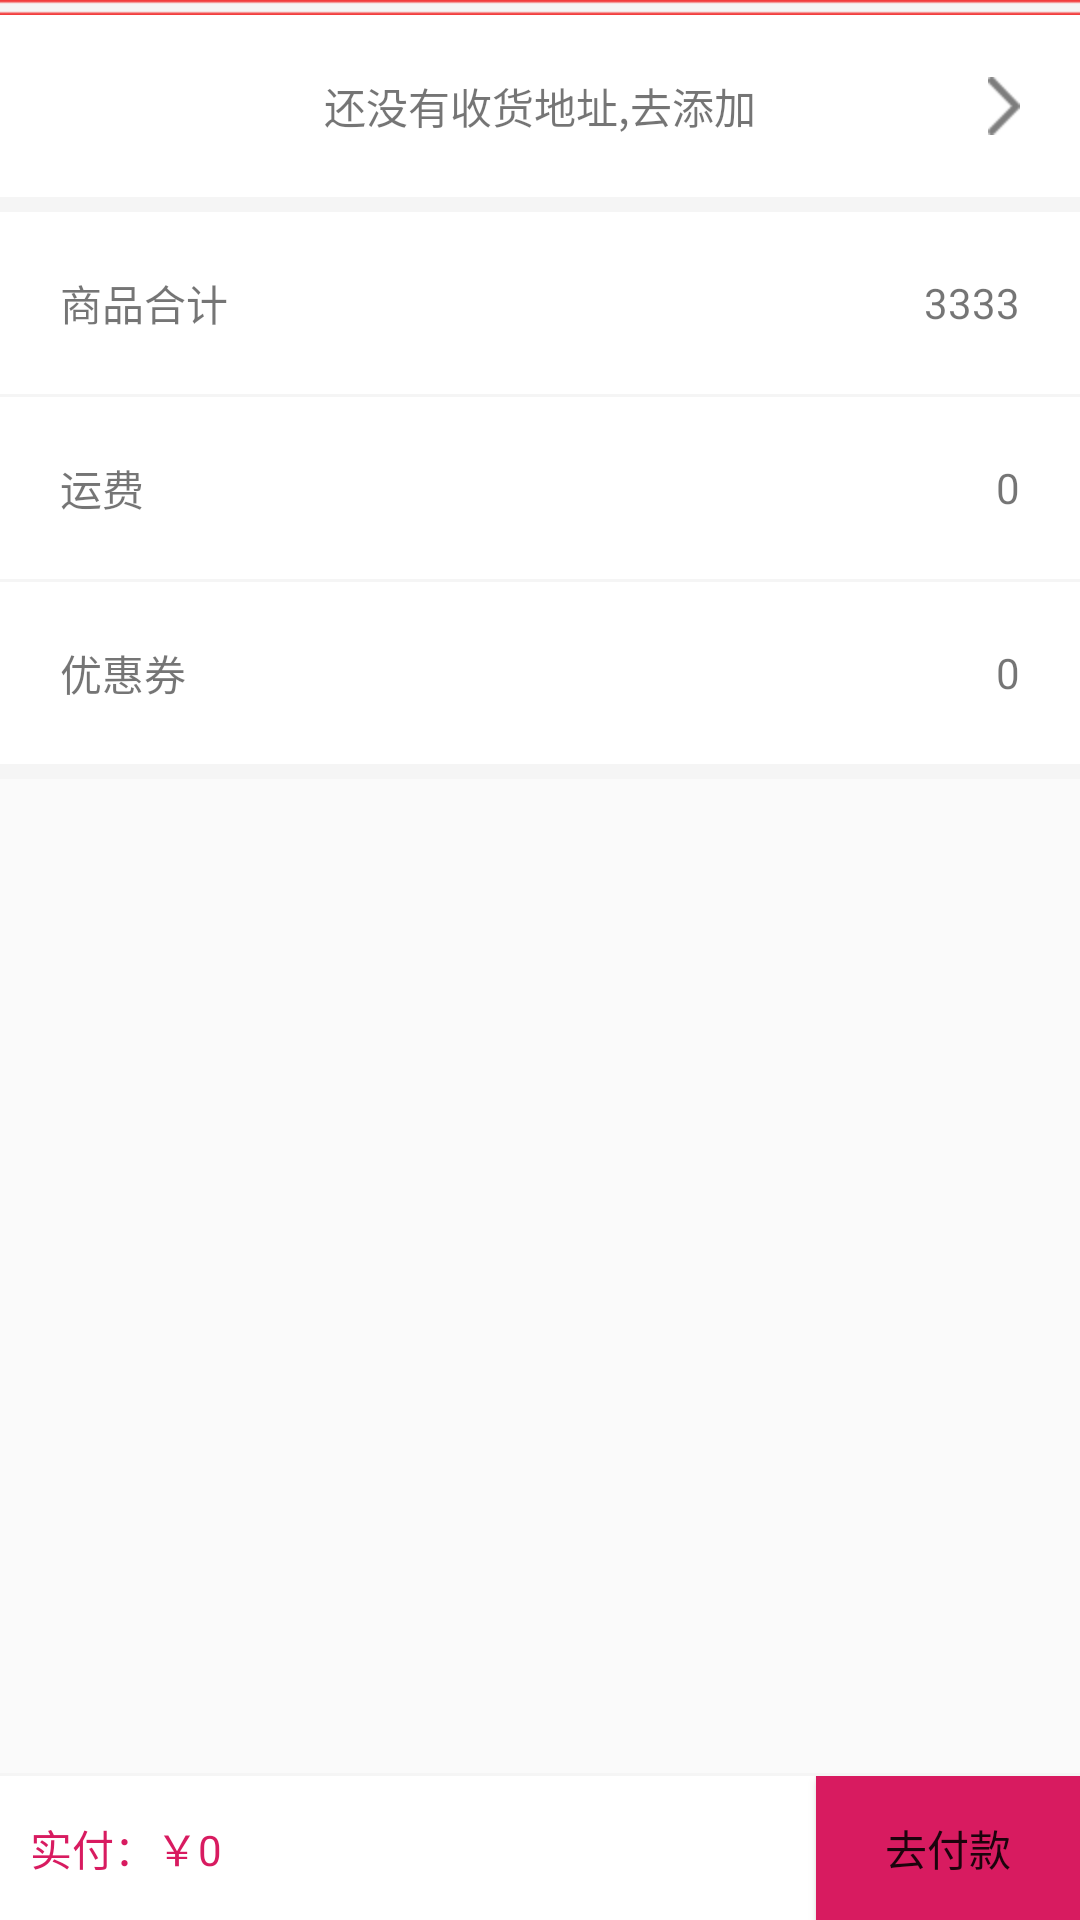

Icons on this 1080px x 1920px Android screen, each with the point to tap as (x=x, y=y):
gengduo: (x=1004, y=106)
